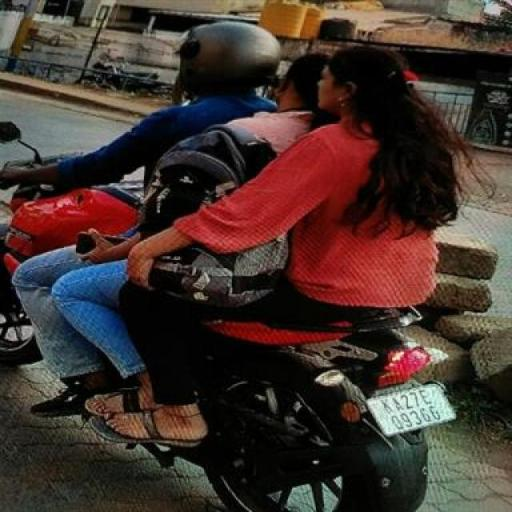tripple riding: (23, 16, 481, 316)
